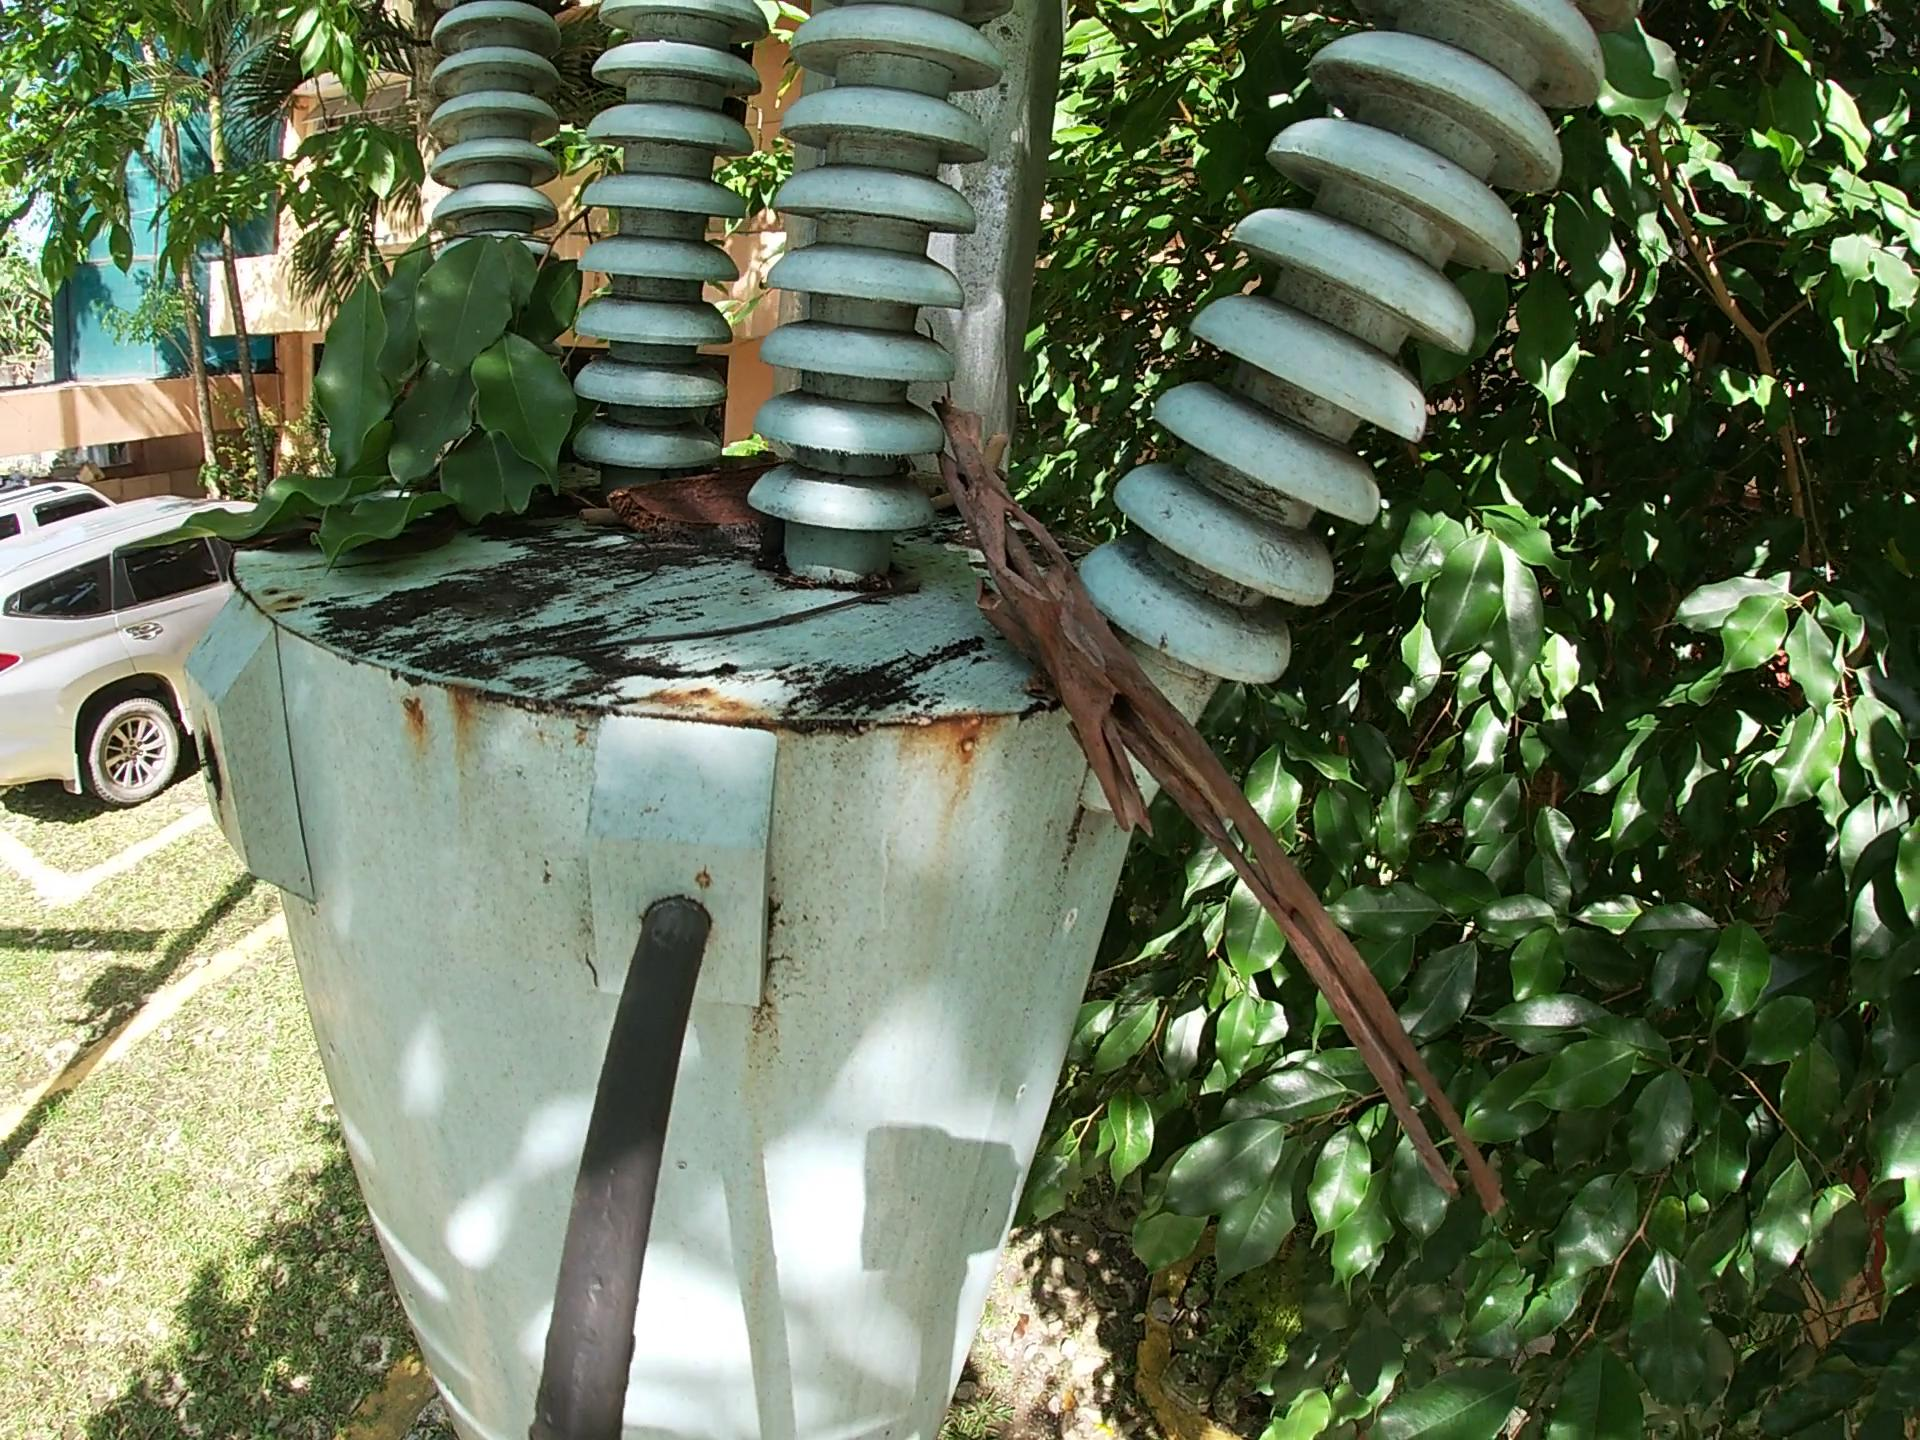branch with leaves: (190, 151, 579, 585)
mahogany fruit: (608, 479, 797, 526)
tree branch: (930, 396, 1525, 1225), (636, 573, 895, 664), (602, 529, 701, 591), (576, 507, 603, 535)
